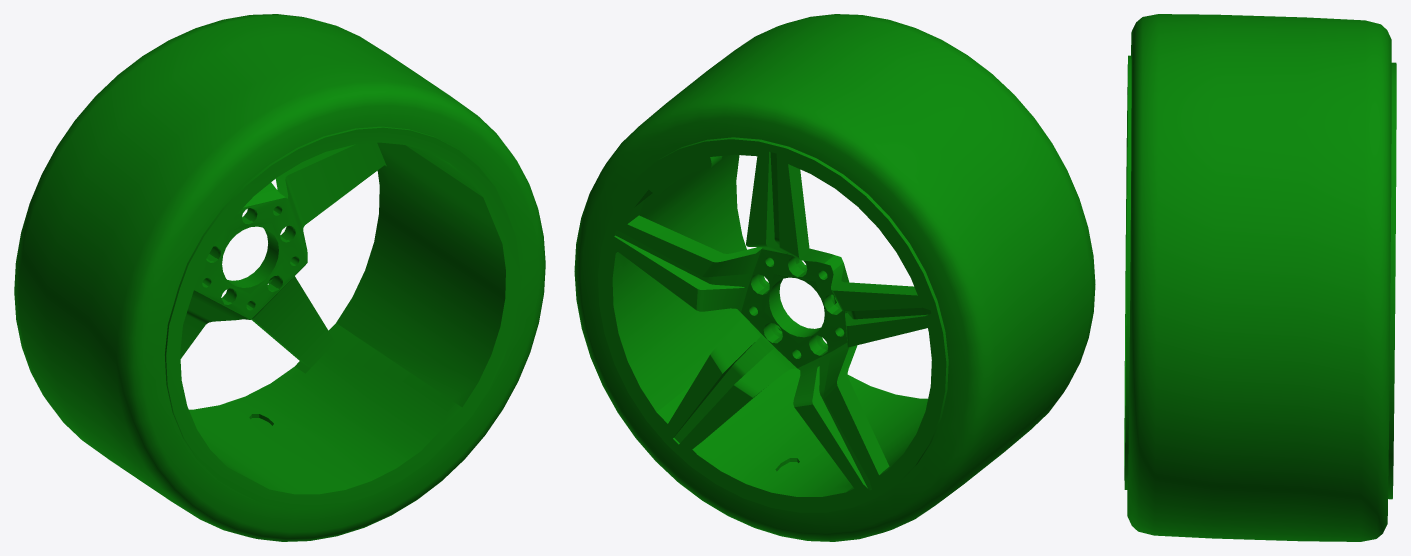
File: LlantaTraseraD_ANC.obj
The picture shows the model from 3 angles, left to right: view 1: azimuth 30°, elevation 25°; view 2: azimuth 150°, elevation 25°; view 3: azimuth 270°, elevation 25°; orthographic projection. The views are drawn at different scales.
Visible parts, largest first — view 1: cylinder1311; view 2: cylinder1311; view 3: cylinder1311.
Boxes of the visible parts, bbox=[...] form: cylinder1311: bbox=[14, 14, 545, 541]; cylinder1311: bbox=[574, 14, 1095, 541]; cylinder1311: bbox=[1124, 14, 1396, 541].
Size of the model in its own units: 3.29 by 3.33 by 1.71.
